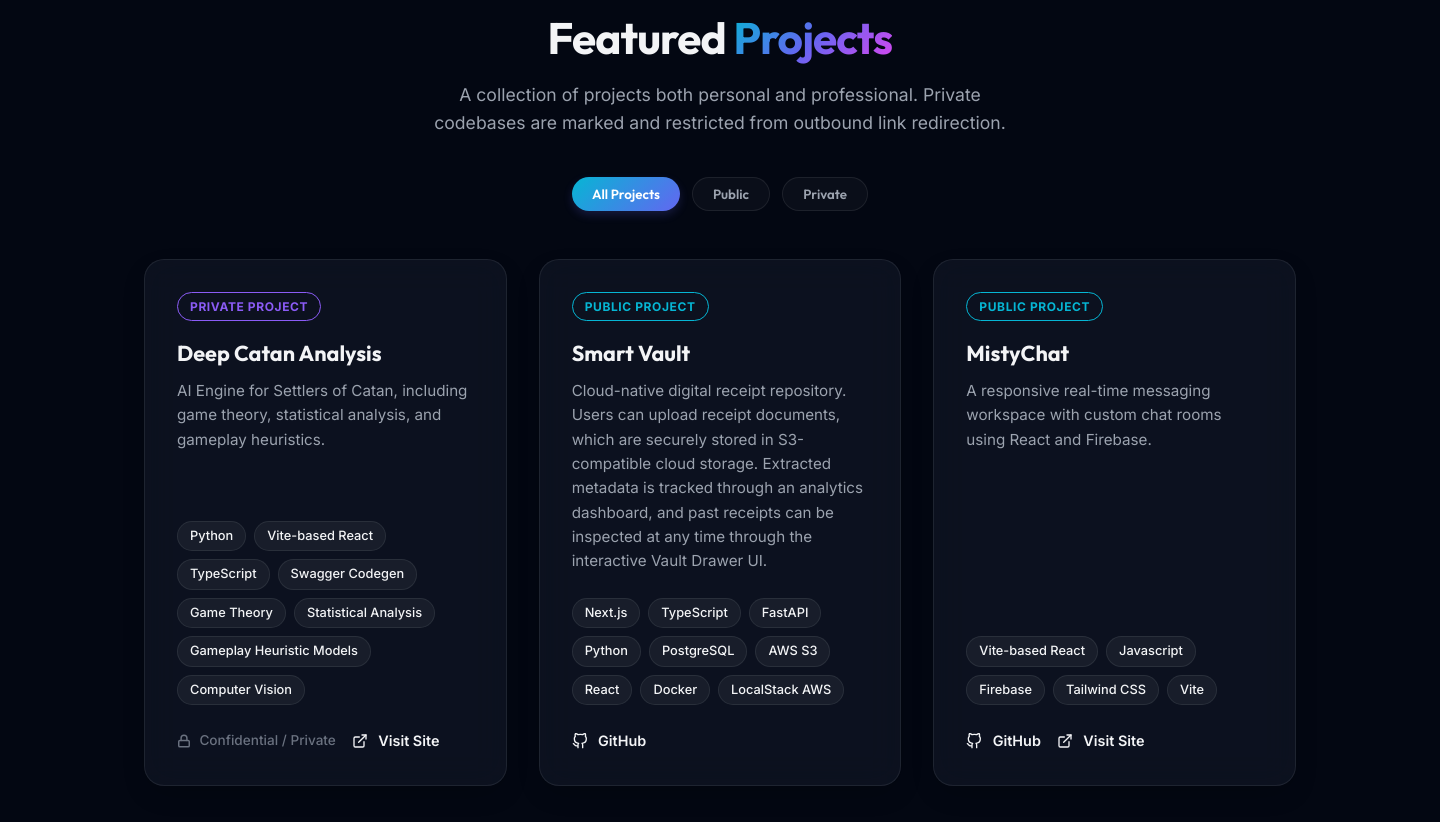
Scenario: Projects Component › filters projects by public category
Click the button with test id "filter-btn-public". click: click(731, 194)
box: [692, 177, 770, 211]
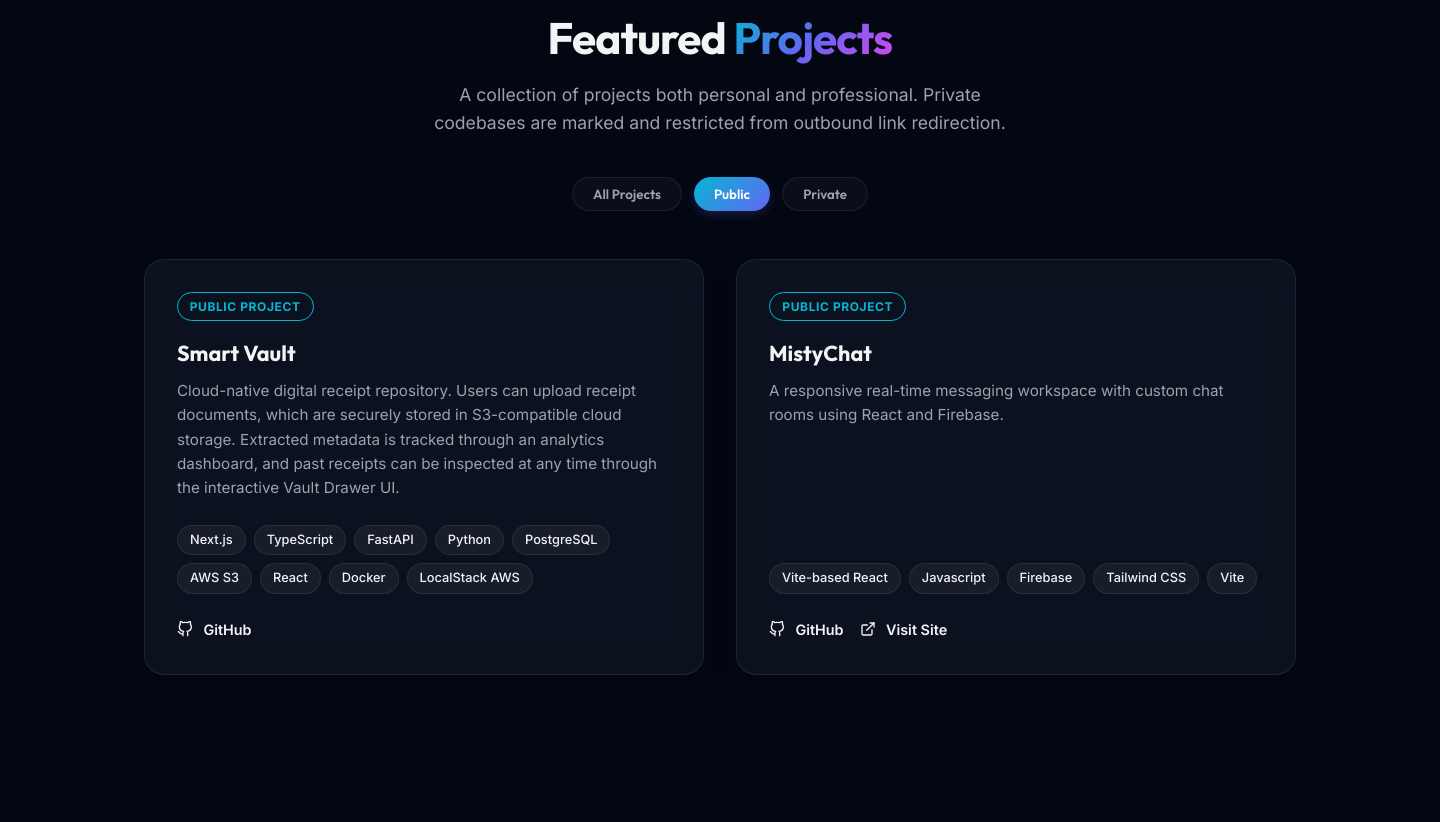
expect the heading "MistyChat" is shown: met, box [769, 339, 872, 367]
expect the heading "Deep Catan Analysis" is gone: met
